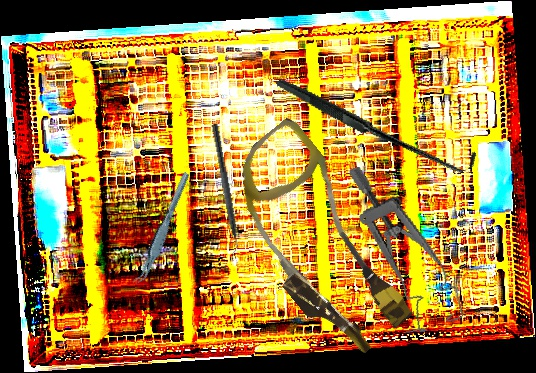Cannula: (201, 114, 437, 368)
Chopper: (202, 123, 244, 259)
Hook Surgical: (275, 19, 481, 227)
Speculum: (346, 150, 466, 341)
Tissue Forceps: (122, 171, 203, 287)
